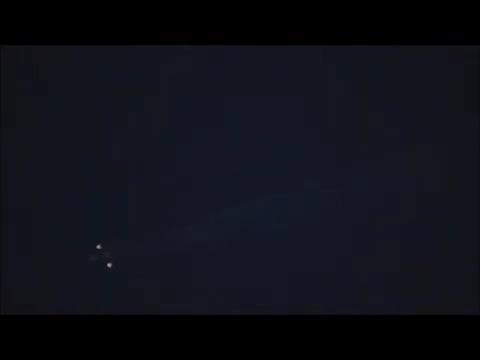Plane: (68, 232, 134, 278)
